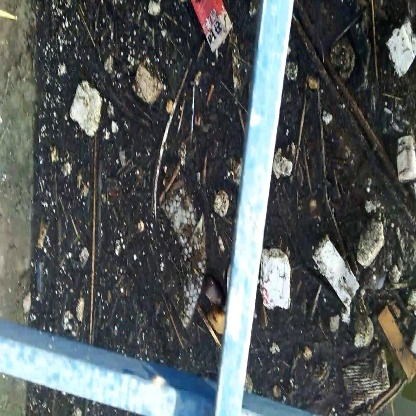bottle: (259, 249, 294, 316)
milk-box: (309, 228, 361, 308)
